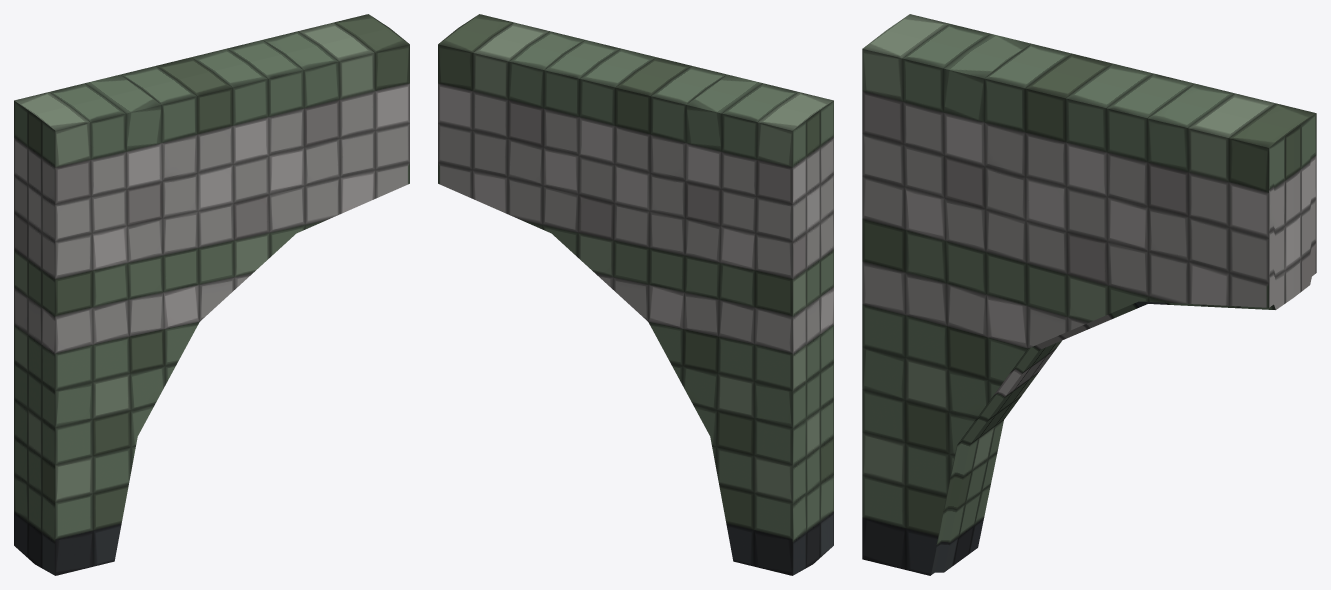
The model's file is SM_Bld_Archway_01.fbx.
3 views of the same model, side by side, from view 1: azimuth 30°, elevation 25°; view 2: azimuth 150°, elevation 25°; view 3: azimuth 330°, elevation 25° (orthographic). The views are drawn at different scales.
Parts seen in each view (by area): view 1: SM_Bld_Archway_01; view 2: SM_Bld_Archway_01; view 3: SM_Bld_Archway_01.
Boxes of the visible parts, x1,y1,x2,y2 form: SM_Bld_Archway_01: [14, 14, 409, 575]; SM_Bld_Archway_01: [438, 14, 833, 575]; SM_Bld_Archway_01: [862, 14, 1316, 575].
Bounding box in the file's own units: 251 × 303 × 50.63.
